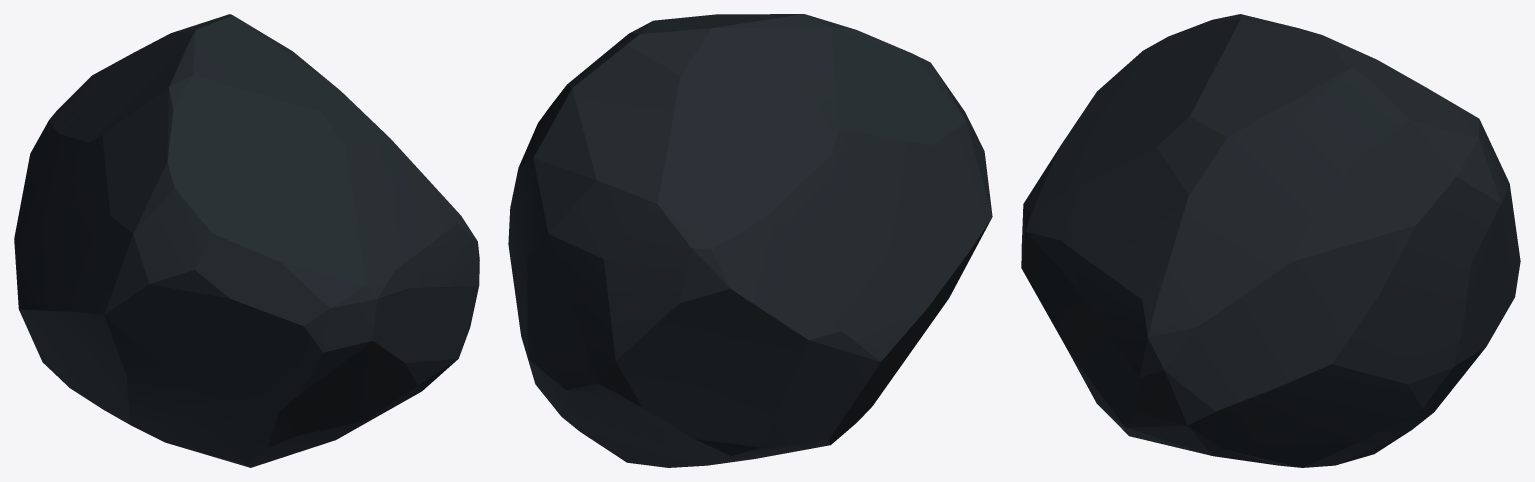
File: Asteroid_s_14.FBX
3 renders of one model, left to right at view 1: azimuth 30°, elevation 25°; view 2: azimuth 150°, elevation 25°; view 3: azimuth 270°, elevation 25°, orthographic. The views are drawn at different scales.
Parts seen in each view (by area): view 1: Asteroid_s_14; view 2: Asteroid_s_14; view 3: Asteroid_s_14.
Part boxes in pixels (bbox=[...]): Asteroid_s_14: bbox=[14, 14, 479, 467]; Asteroid_s_14: bbox=[508, 14, 992, 467]; Asteroid_s_14: bbox=[1021, 14, 1520, 467].
Bounding box in the file's own units: 179 × 179 × 197.
